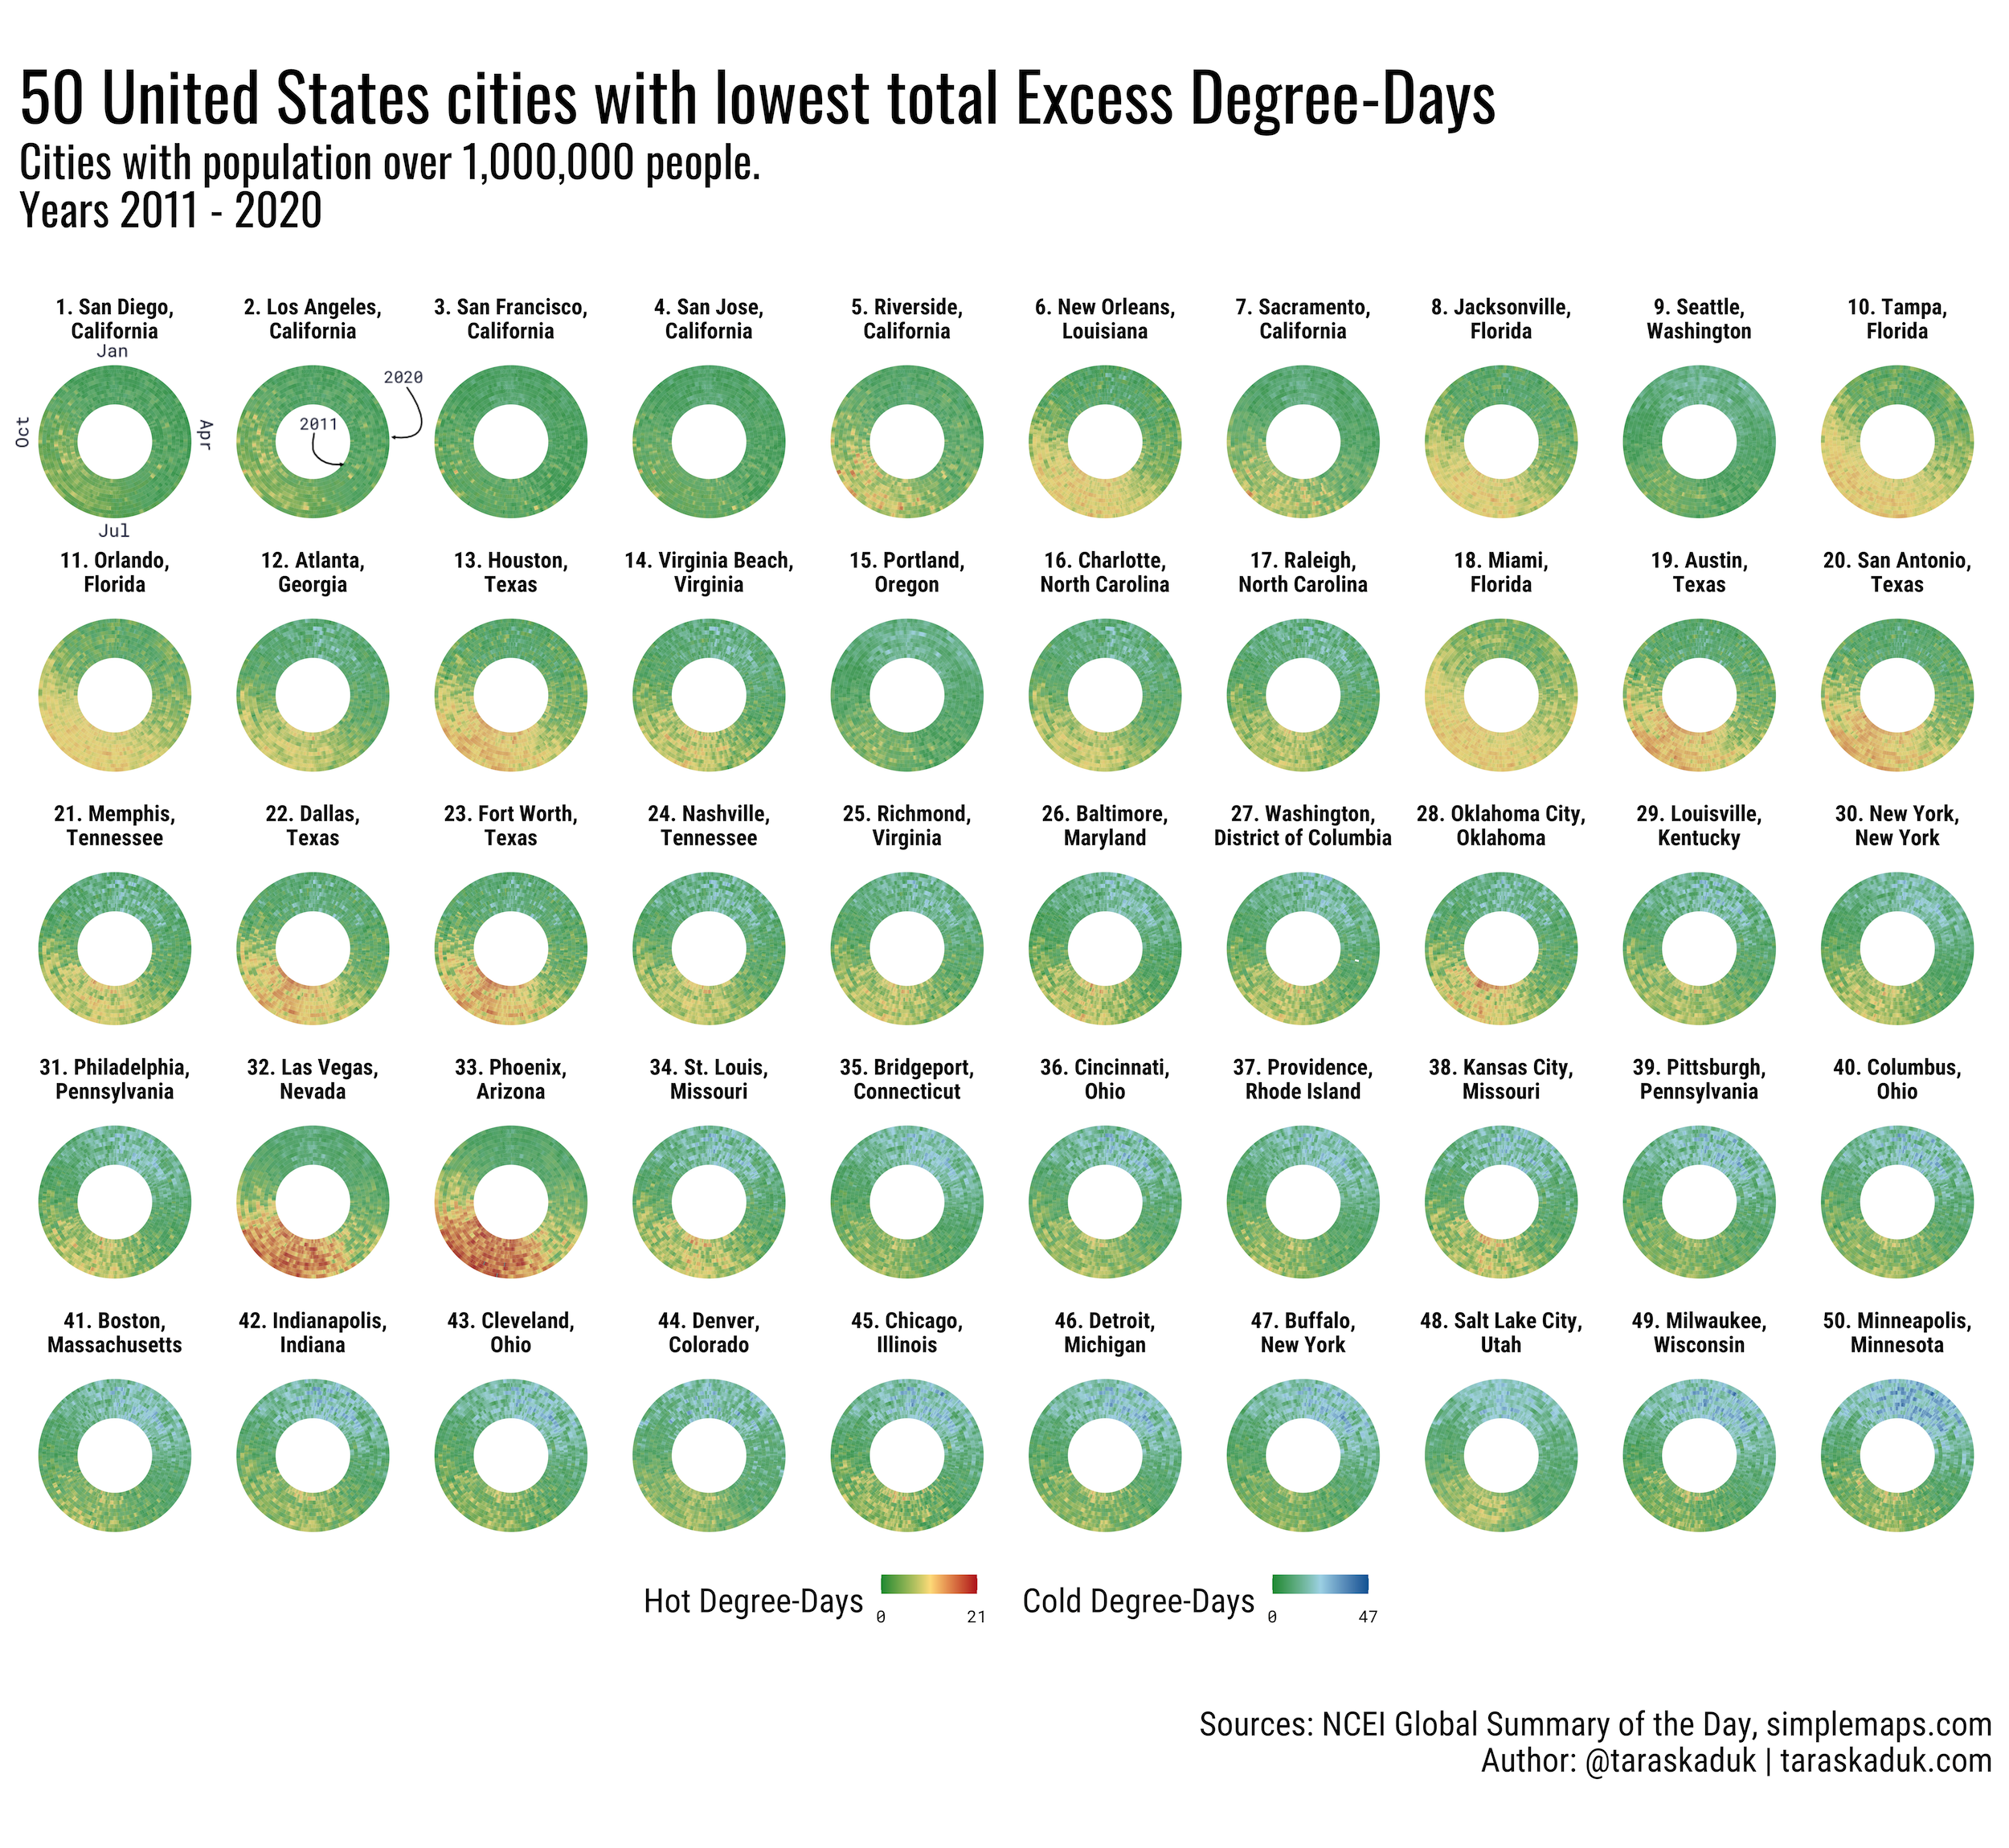

The page's visual inventory and layout, read from the dashboard file:
{"tool":"tableau","page":{"name":"Radial Stack Bar Charts","canvas":[900,800],"ordinal":0},"visuals":[{"type":"worksheet","title":"radial stacked bar","mark":"Polygon","box":[0,0,796,800]},{"type":"legend","title":"radial stacked bar","param":"[federated.0d4brrl0id6ggj1ffol9q0xiccq4].[none:Calculation_4518799278402621453:n","box":[796,0,104,90]},{"type":"parameter","param":"[Parameters].[Parameter 4]","box":[796,90,104,52]},{"type":"parameter","param":"[Parameters].[Parameter 1]","box":[796,142,104,52]},{"type":"parameter","param":"[Parameters].[Parameter 2]","box":[796,194,104,52]},{"type":"parameter","param":"[Parameters].[Parameter 3]","box":[796,246,104,52]},{"type":"worksheet","title":"social","mark":"Shape","cols":["Platform"],"box":[840,770,60,30]}]}

Visuals, with their boxes on the page's 900x800 design canvas (x1, y1, x2, y2). These are canvas units, not pixel positions in the 2009x1848 screenshot, which may show the page scaled, cropped or inside an application window:
"radial stacked bar" worksheet (Polygon marks): <bbox>0, 0, 796, 800</bbox>
"radial stacked bar" legend: <bbox>796, 0, 900, 90</bbox>
parameter: <bbox>796, 90, 900, 142</bbox>
parameter: <bbox>796, 142, 900, 194</bbox>
parameter: <bbox>796, 194, 900, 246</bbox>
parameter: <bbox>796, 246, 900, 298</bbox>
"social" worksheet (Shape marks): <bbox>840, 770, 900, 800</bbox>
